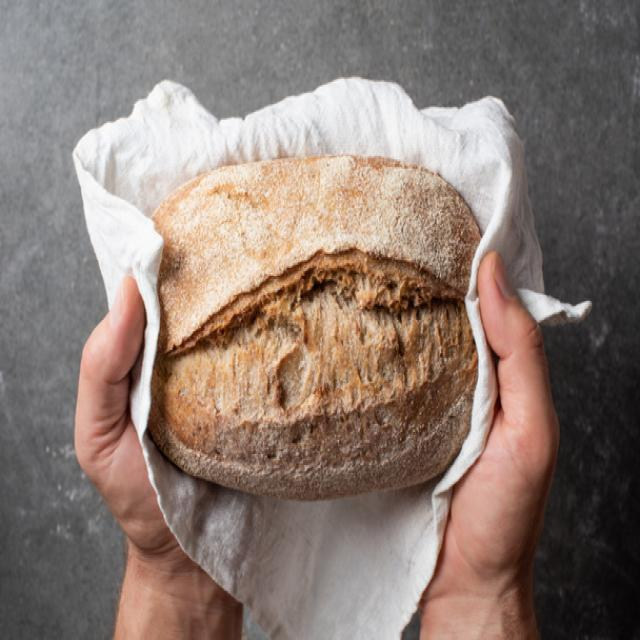Ciabatta: (148, 156, 480, 498)
